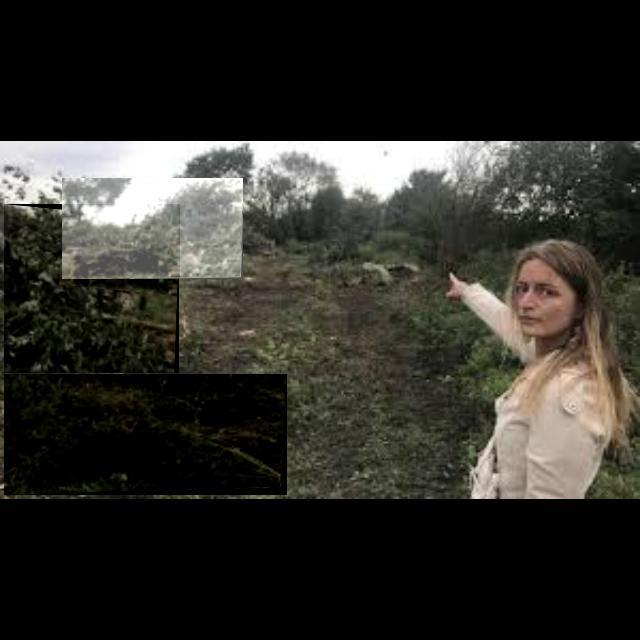fallen_tree: (4, 374, 288, 496), (4, 204, 180, 374), (62, 178, 244, 280)
